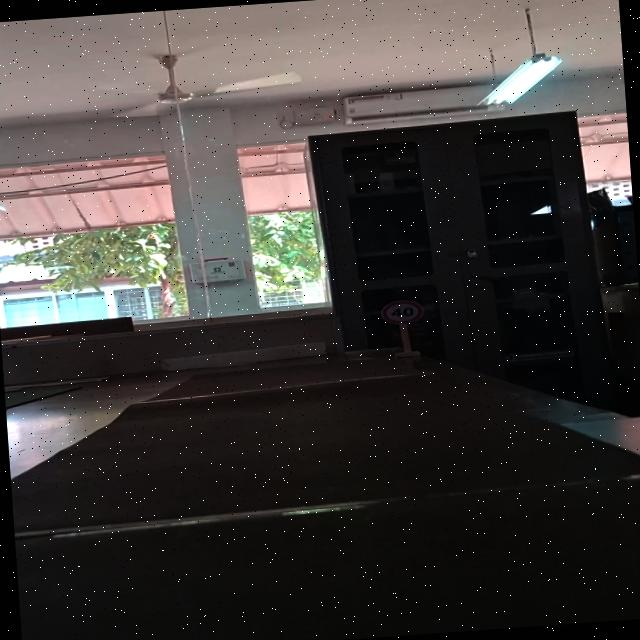Speed40: (378, 296, 425, 326)
